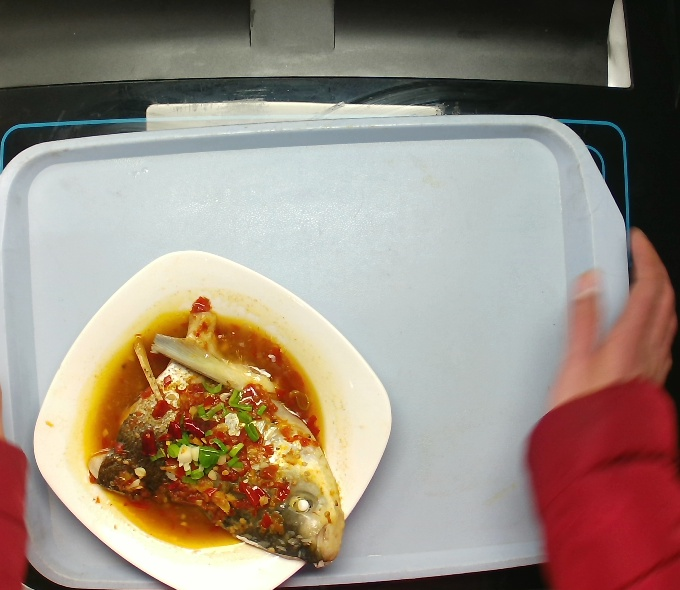wcq-DuoJiaoYuTou: (79, 280, 362, 586)
